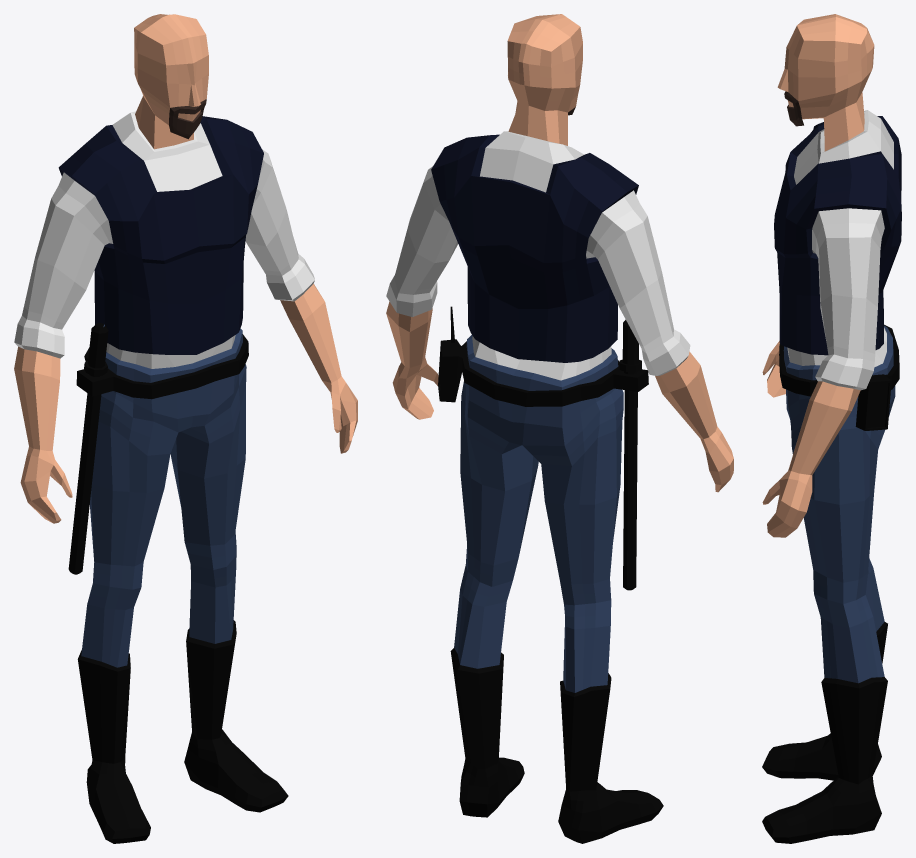
Rendered from Enemy.fbx.
3 renders of one model, left to right at view 1: azimuth 30°, elevation 25°; view 2: azimuth 150°, elevation 25°; view 3: azimuth 270°, elevation 25°, orthographic.
Visible parts, largest first — view 1: Body_Cube.001; view 2: Body_Cube.001; view 3: Body_Cube.001.
Boxes of the visible parts, x1,y1,x2,y2 form: Body_Cube.001: [14, 14, 357, 843]; Body_Cube.001: [386, 14, 733, 843]; Body_Cube.001: [762, 14, 901, 843].
Size of the model in its own units: 209 by 473 by 76.28.
